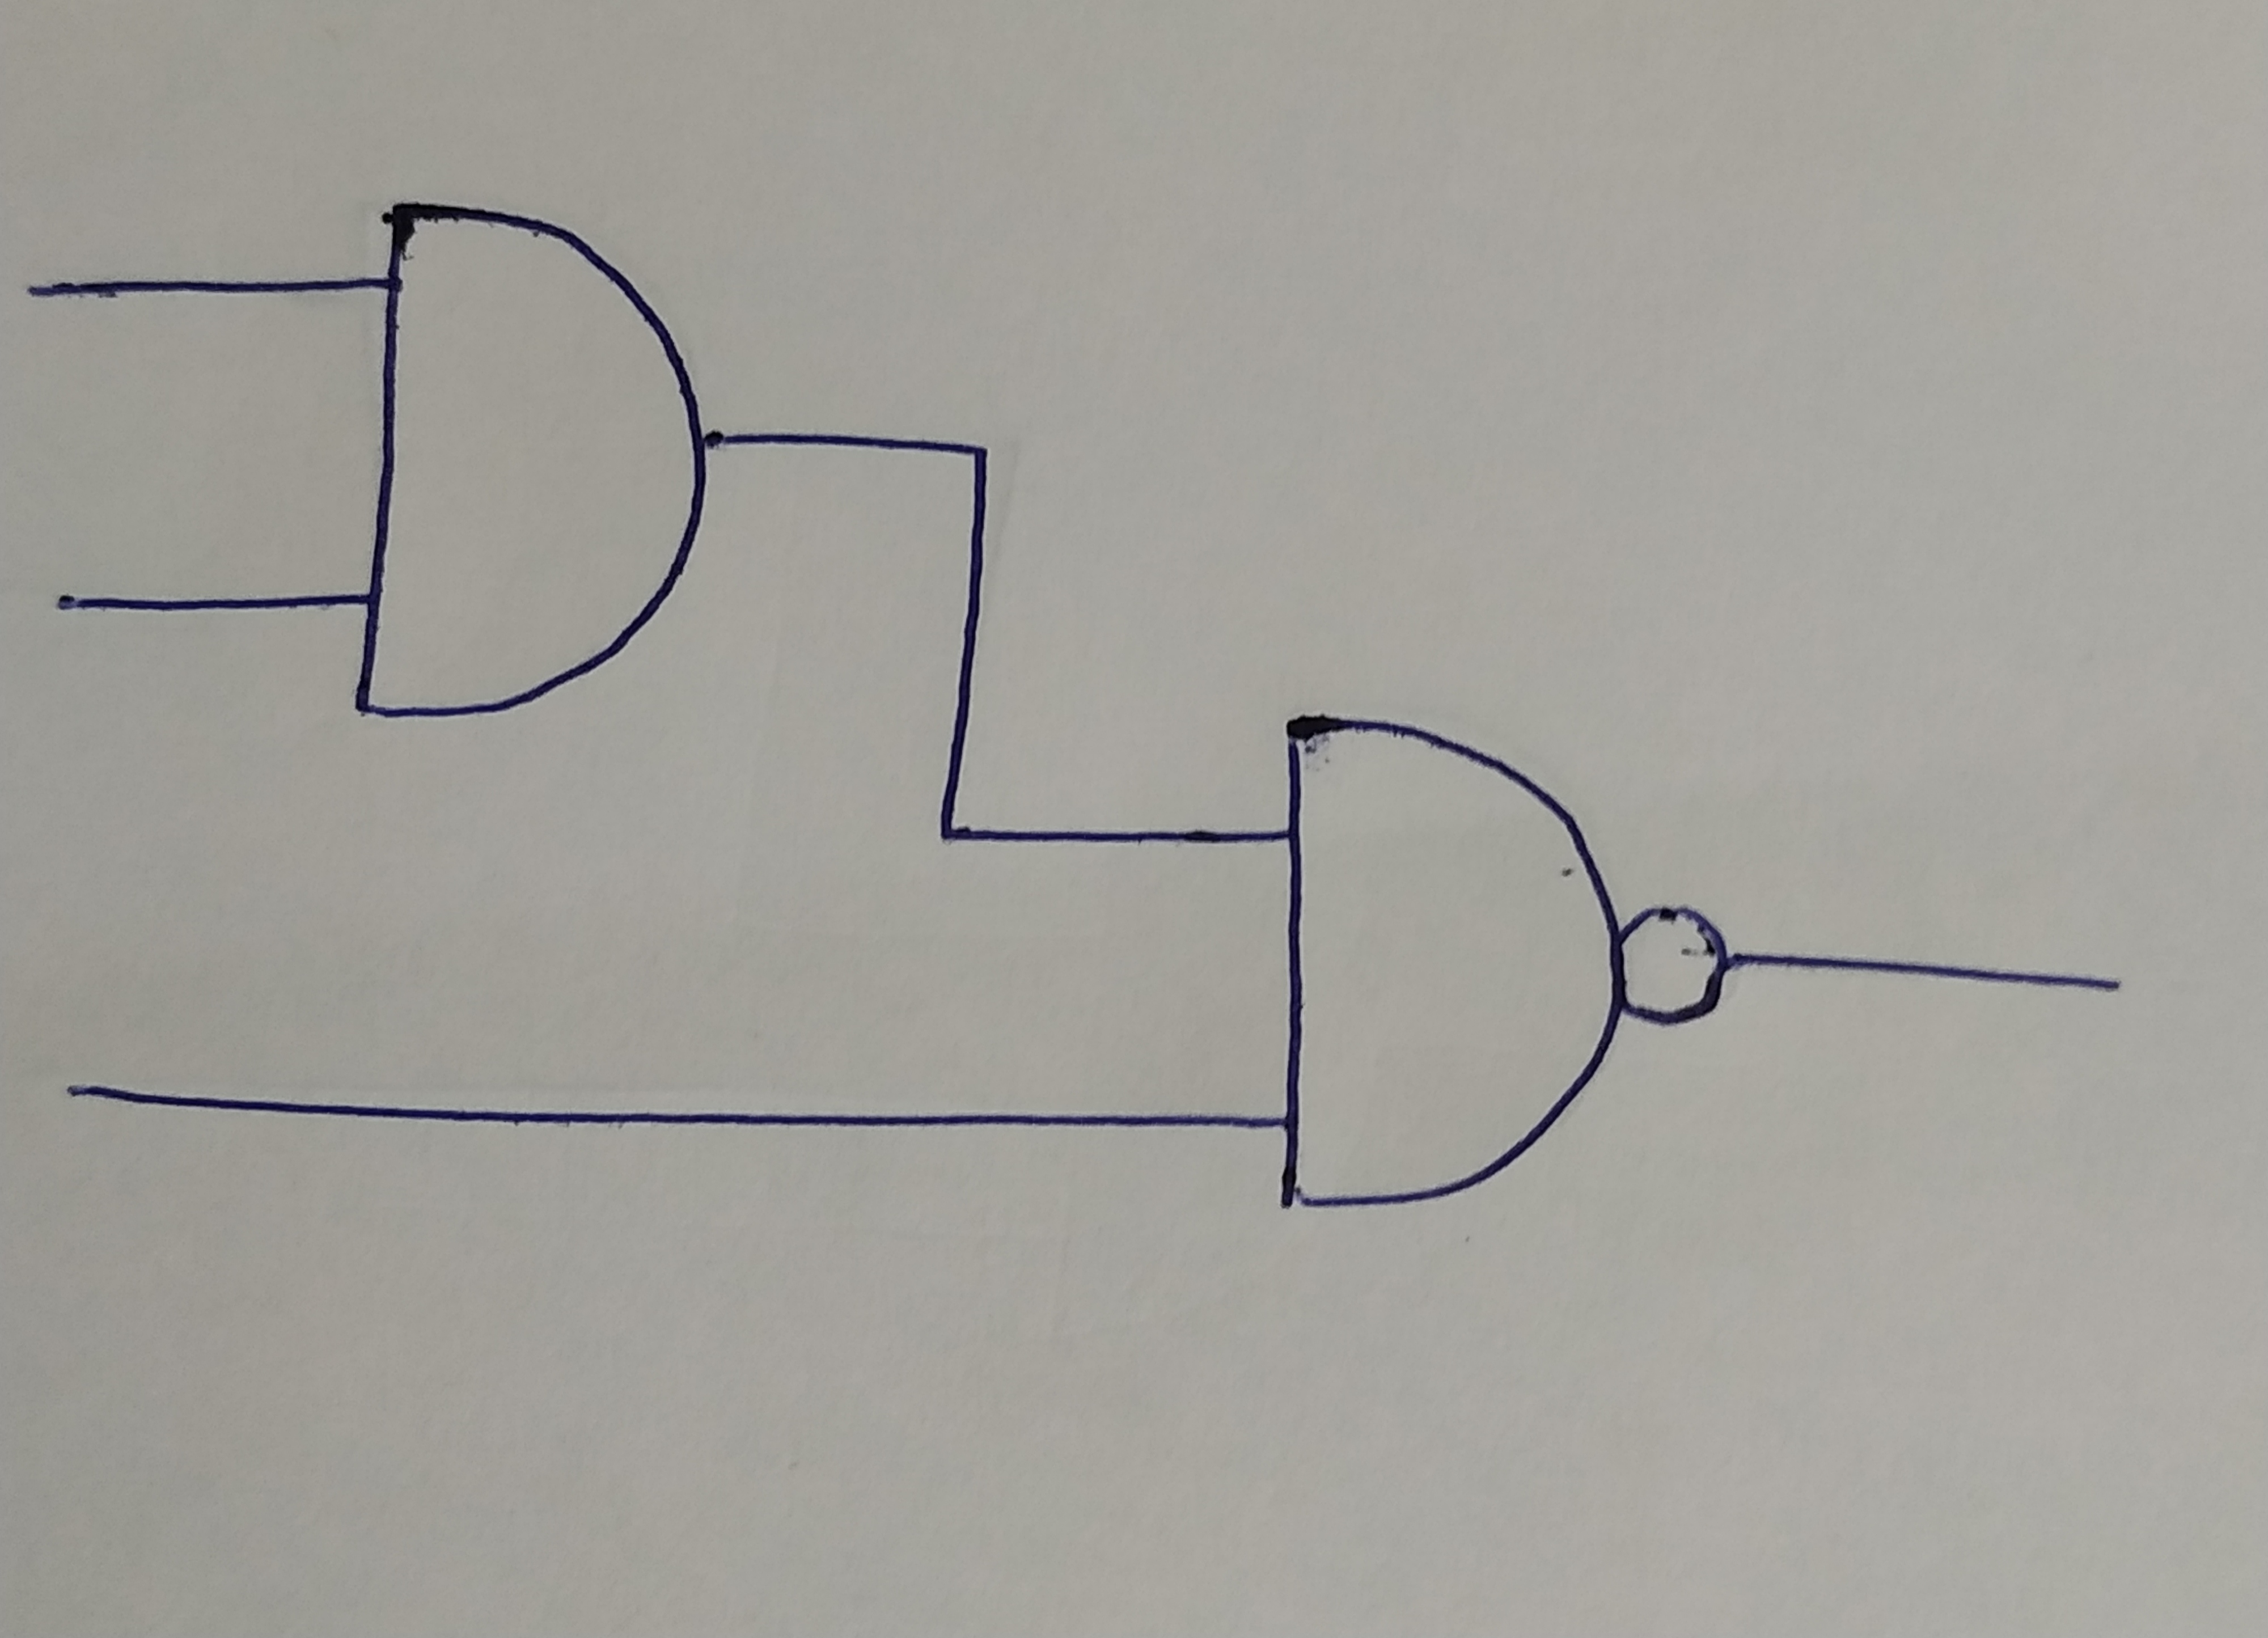and: (364, 203, 699, 724), (1280, 715, 1620, 1215)
not: (1622, 909, 1724, 1022)
